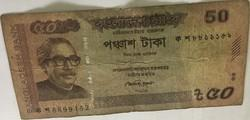50 taka: (4, 6, 241, 111)
